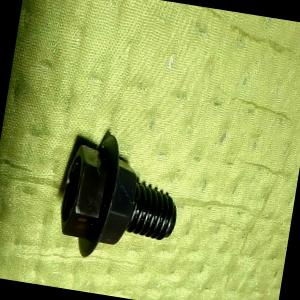parafuso: (54, 128, 188, 270)
